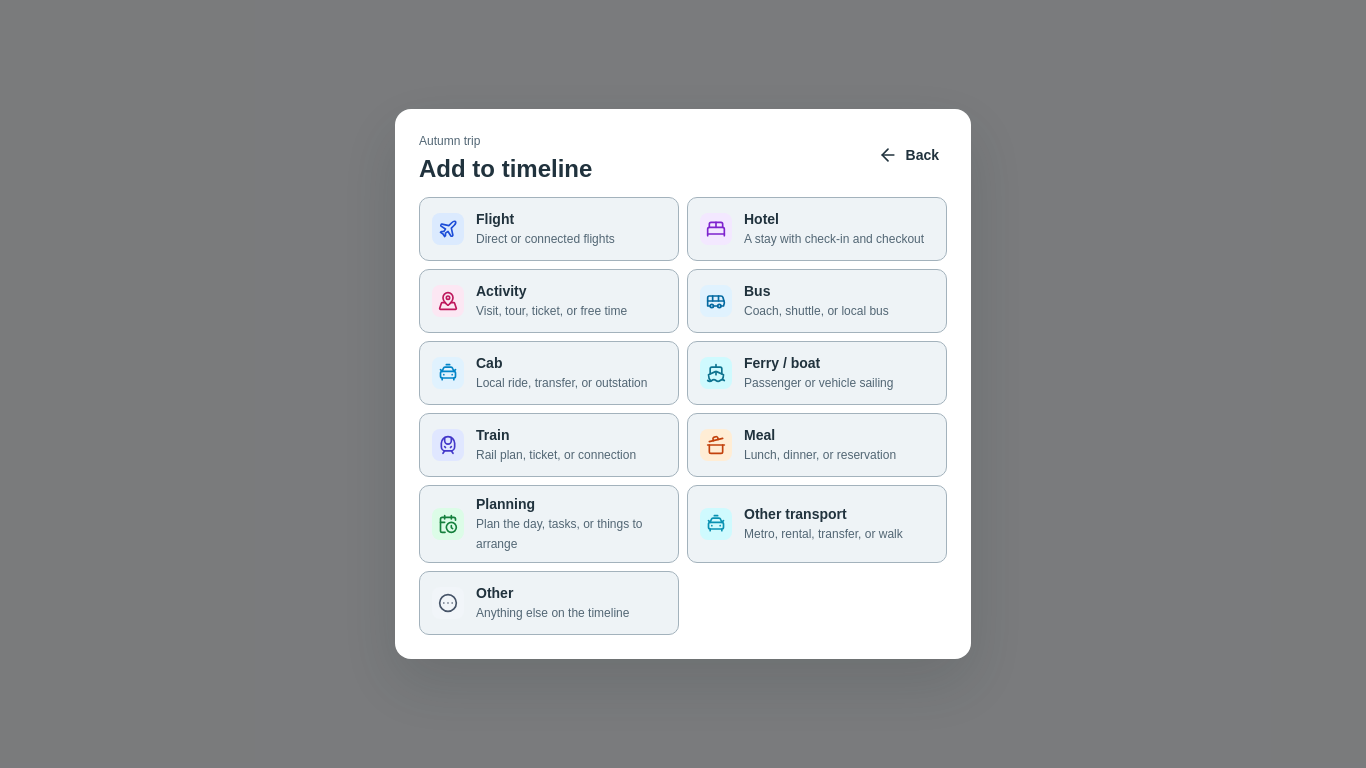
event form architecture › starts a connecting flight with two legs and validates chronological connections
Click the button "Flight Direct or connected flights" at (549, 229), box top-left (419, 197), bottom-right (679, 261)
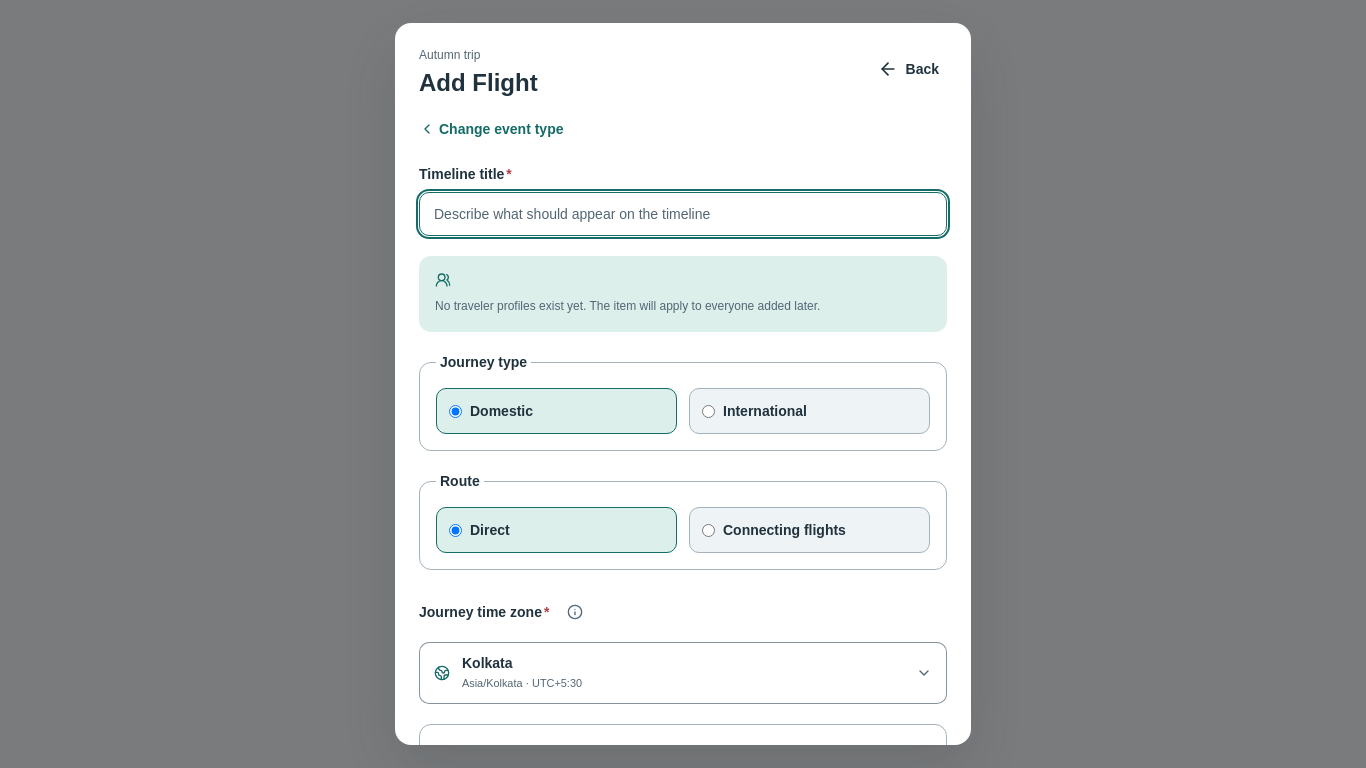
Click the radio button labelled "Connecting flights" at (708, 530), box top-left (702, 524), bottom-right (715, 536)
(page scrolled)
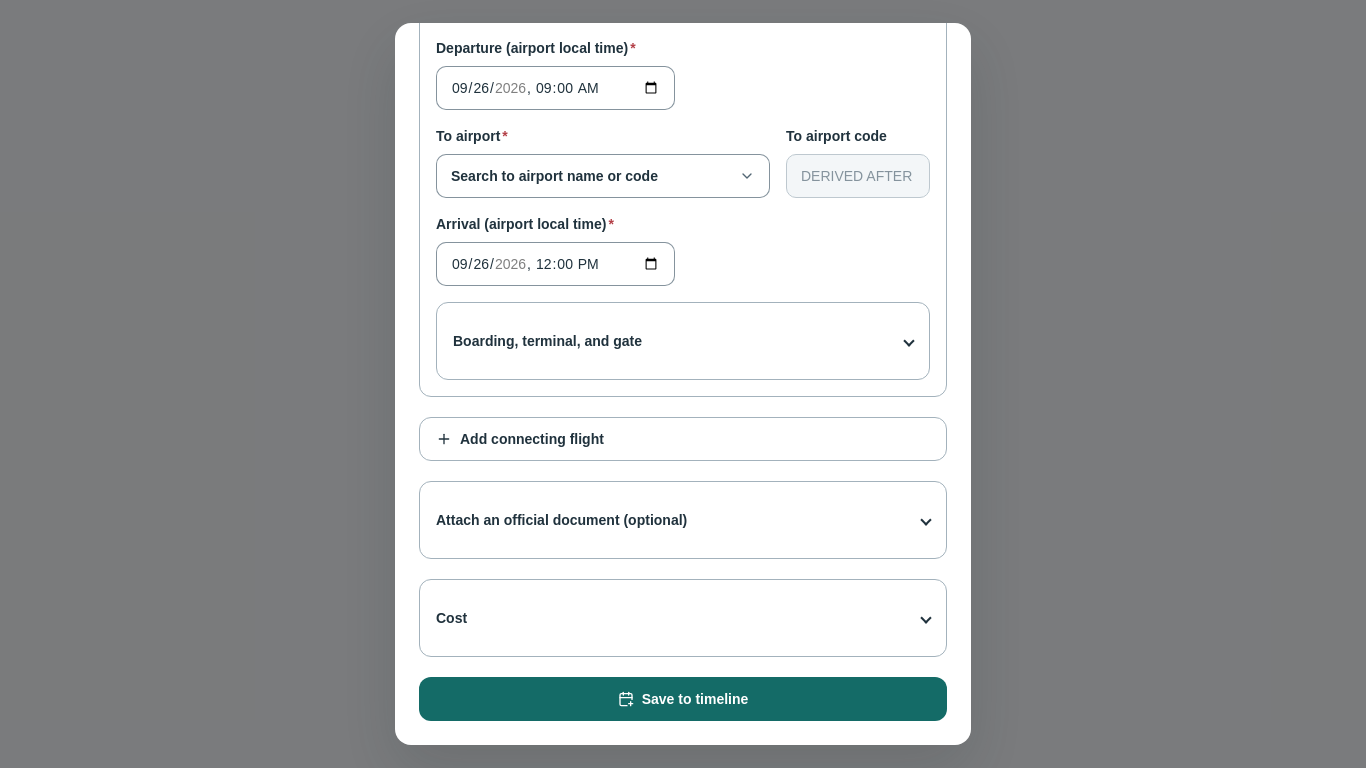
Check: the button "Add connecting flight" is shown, box top-left (419, 417), bottom-right (947, 461)
